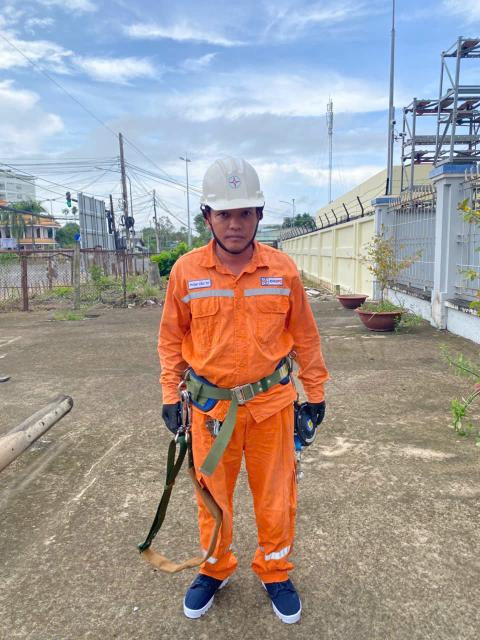gloves: (303, 382, 347, 452), (144, 392, 198, 443)
harness: (175, 352, 304, 410)
helmet: (198, 153, 269, 217)
shoes: (249, 555, 320, 625), (170, 562, 235, 620)
